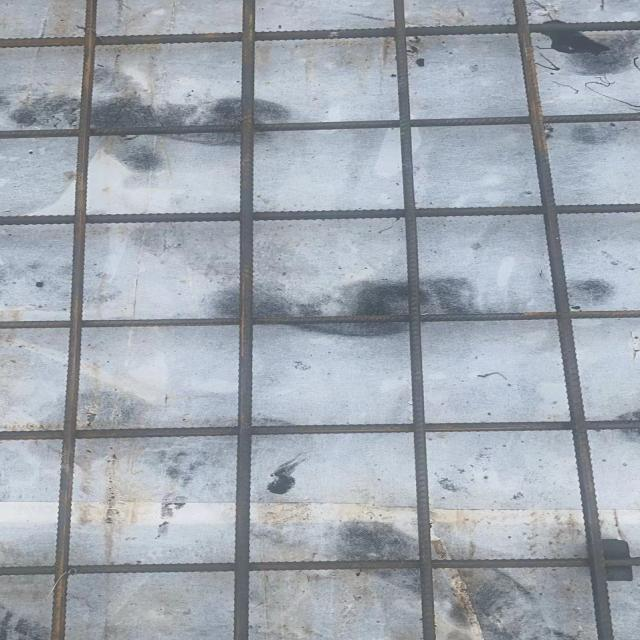ribbed bar: (513, 0, 616, 639), (48, 0, 98, 639), (392, 0, 436, 639), (0, 20, 639, 49), (0, 111, 639, 139), (232, 0, 259, 639), (0, 202, 639, 226), (0, 418, 639, 441), (0, 307, 639, 329), (0, 557, 639, 575)
